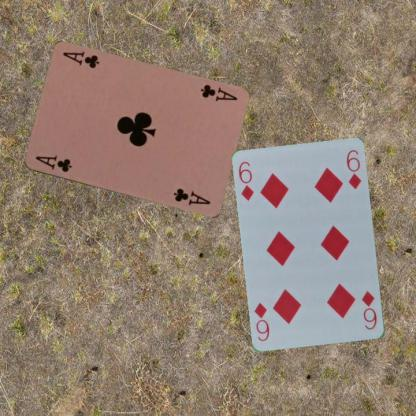6d: (359, 288, 378, 331), (236, 159, 255, 202)
Ac: (198, 81, 238, 103), (32, 153, 73, 174)
